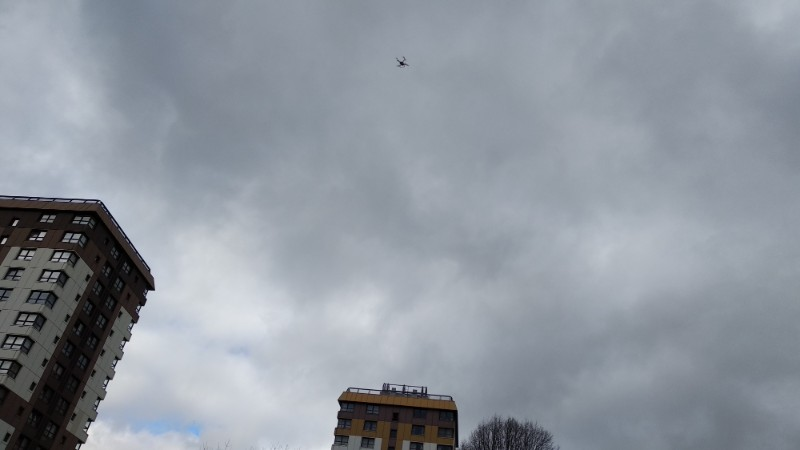drone: (395, 57, 409, 68)
